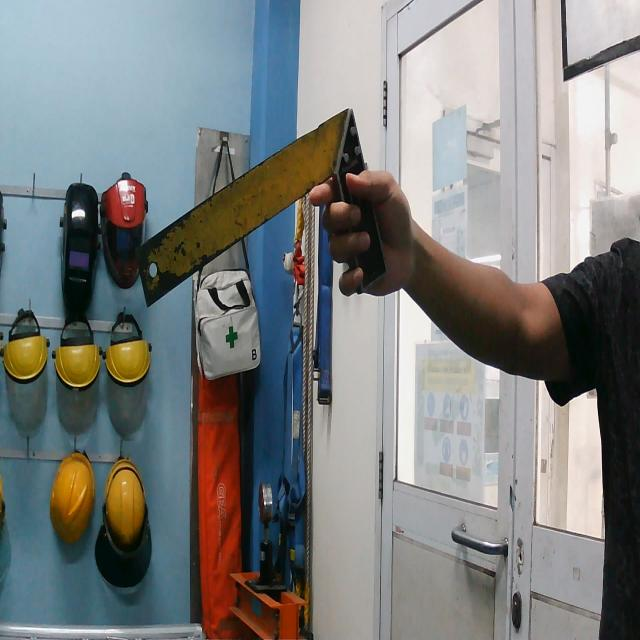penggaris_siku: (133, 94, 391, 317)
